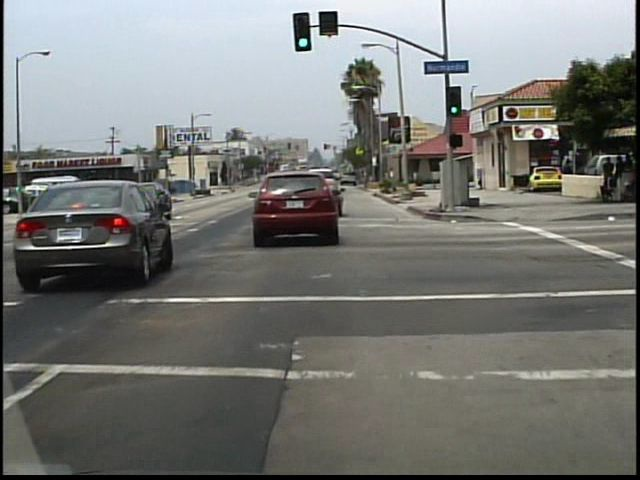person: (559, 156, 576, 196)
